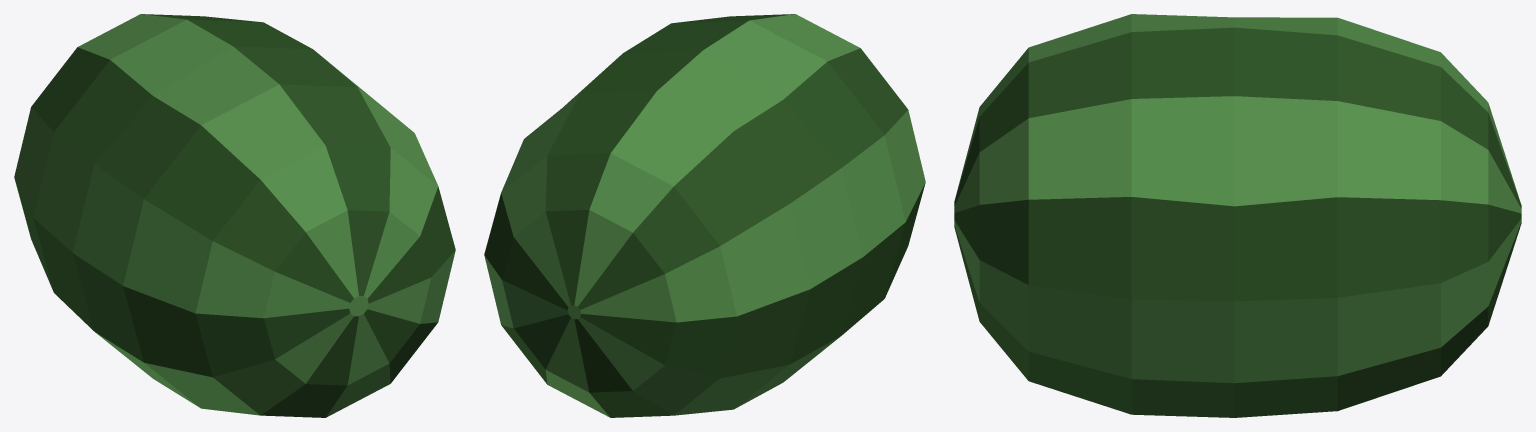
File: watermelon001.gltf
3 views of the same model, side by side, from view 1: azimuth 30°, elevation 25°; view 2: azimuth 150°, elevation 25°; view 3: azimuth 270°, elevation 25° (orthographic). The views are drawn at different scales.
Parts seen in each view (by area): view 1: node_watermelon001_-141428; view 2: node_watermelon001_-141428; view 3: node_watermelon001_-141428.
Boxes of the visible parts, x1,y1,x2,y2 form: node_watermelon001_-141428: [14, 14, 455, 417]; node_watermelon001_-141428: [484, 14, 925, 417]; node_watermelon001_-141428: [954, 14, 1521, 417].
Size of what is drawn, in the model's own units: 0.1291 by 0.1279 by 0.1777.
Materials: 1 (1 with a texture image).
